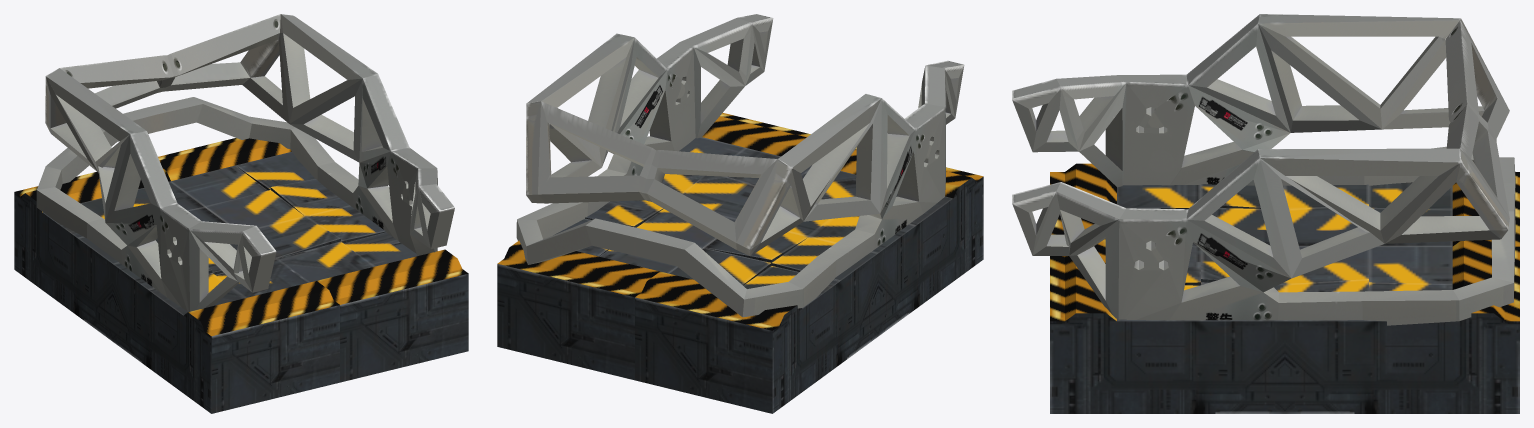
The model's file is lorry-stop.glb.
The picture shows the model from 3 angles, left to right: view 1: azimuth 30°, elevation 25°; view 2: azimuth 150°, elevation 25°; view 3: azimuth 270°, elevation 25°; orthographic projection. The views are drawn at different scales.
Parts seen in each view (by area): view 1: Cube; view 2: Cube; view 3: Cube.
Boxes of the visible parts, x1,y1,x2,y2 form: Cube: [14, 14, 468, 413]; Cube: [497, 14, 983, 413]; Cube: [1012, 14, 1519, 413].
Size of the model in its own units: 7.85 by 5.95 by 10.7.
Materials: 1 (1 with a texture image).
